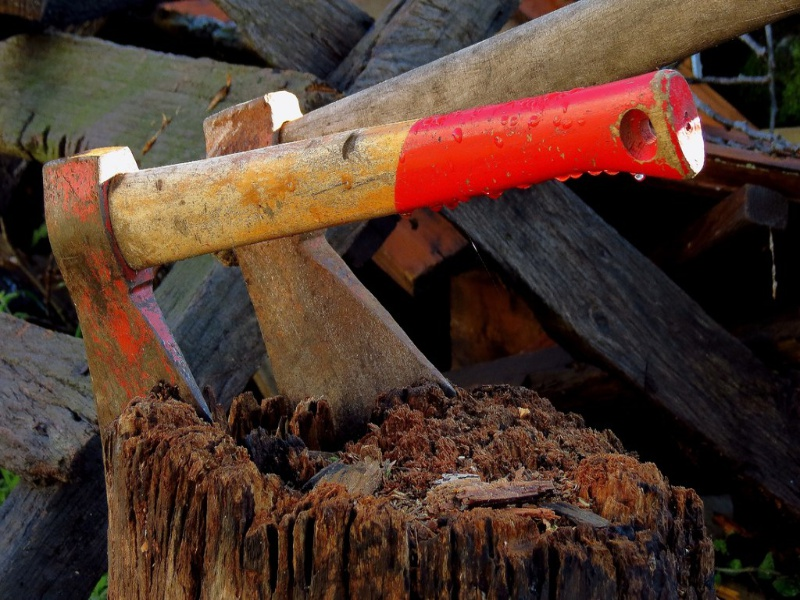axe: (190, 86, 475, 421), (37, 143, 225, 488)
